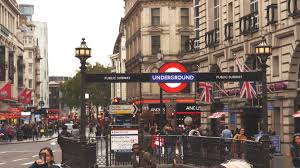London Underground: (150, 64, 195, 94)
